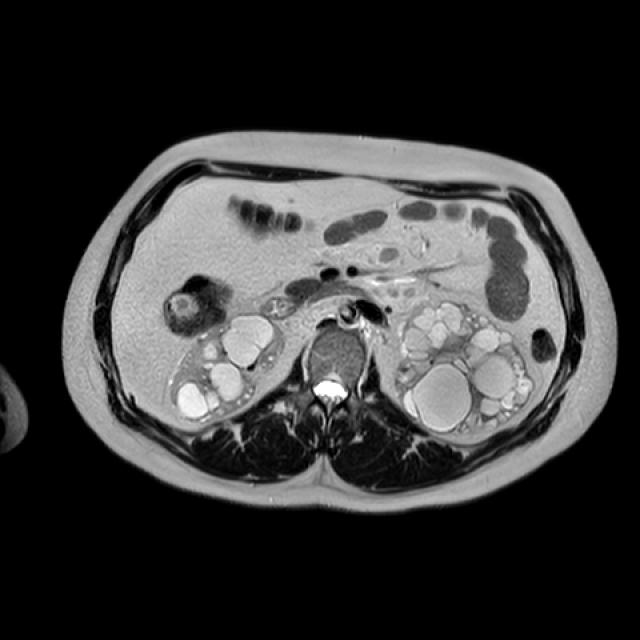sag: (169, 314, 285, 421)
sol: (395, 298, 533, 435)
